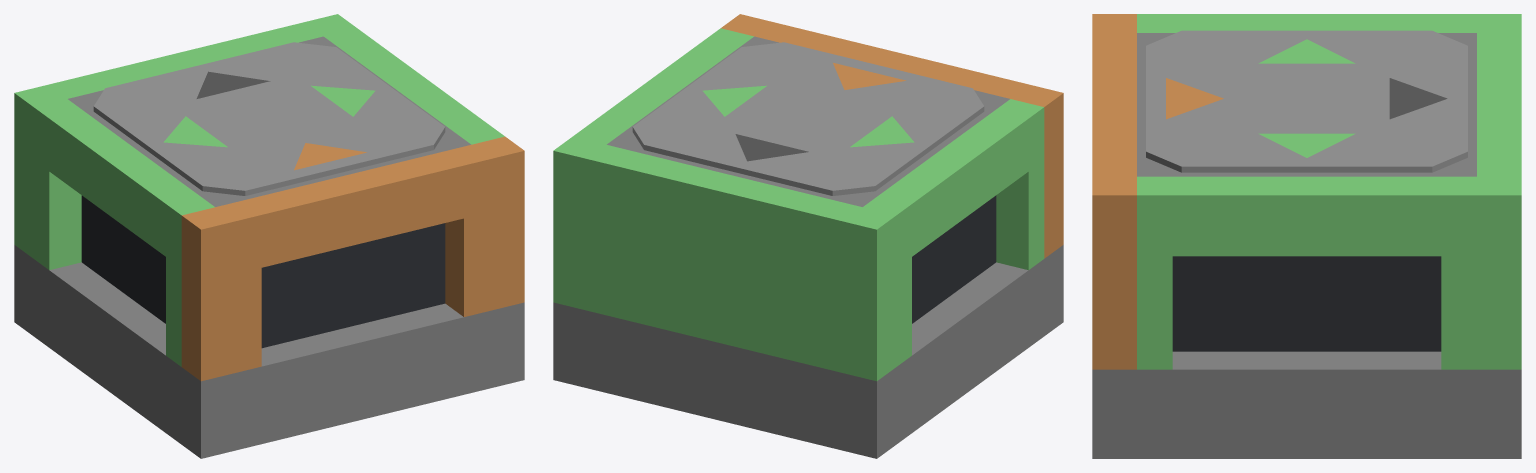
File: vfef_splitter2_t.obj
3 renders of one model, left to right at view 1: azimuth 30°, elevation 25°; view 2: azimuth 150°, elevation 25°; view 3: azimuth 270°, elevation 25°, orthographic. The views are drawn at different scales.
Visible parts, largest first — view 1: vfef_splitter2_t_0, vfef_splitter2_t_19, vfef_splitter2_t_10, vfef_splitter2_t_9, vfef_splitter2_t_13, vfef_splitter2_t_15, vfef_splitter2_t_8, vfef_splitter2_t_17, vfef_splitter2_t_12, vfef_splitter2_t_14, vfef_splitter2_t_7, vfef_splitter2_t_2 (+10 smaller); view 2: vfef_splitter2_t_2, vfef_splitter2_t_0, vfef_splitter2_t_19, vfef_splitter2_t_13, vfef_splitter2_t_16, vfef_splitter2_t_18, vfef_splitter2_t_11, vfef_splitter2_t_14, vfef_splitter2_t_5, vfef_splitter2_t_15, vfef_splitter2_t_9, vfef_splitter2_t_1 (+9 smaller); view 3: vfef_splitter2_t_0, vfef_splitter2_t_19, vfef_splitter2_t_6, vfef_splitter2_t_5, vfef_splitter2_t_17, vfef_splitter2_t_18, vfef_splitter2_t_3, vfef_splitter2_t_4, vfef_splitter2_t_2, vfef_splitter2_t_9, vfef_splitter2_t_1, vfef_splitter2_t_13 (+9 smaller).
Part boxes in pixels (x1,y1,x2,y2): vfef_splitter2_t_0: [14, 245, 524, 458]; vfef_splitter2_t_19: [93, 42, 445, 195]; vfef_splitter2_t_10: [261, 223, 445, 348]; vfef_splitter2_t_9: [243, 151, 463, 267]; vfef_splitter2_t_13: [49, 110, 199, 256]; vfef_splitter2_t_15: [181, 207, 234, 381]; vfef_splitter2_t_8: [445, 144, 490, 316]; vfef_splitter2_t_17: [472, 136, 524, 310]; vfef_splitter2_t_12: [33, 99, 82, 270]; vfef_splitter2_t_14: [81, 195, 165, 323]; vfef_splitter2_t_7: [215, 200, 261, 372]; vfef_splitter2_t_2: [48, 22, 323, 98]; vfef_splitter2_t_2: [587, 144, 862, 372]; vfef_splitter2_t_0: [553, 245, 1063, 458]; vfef_splitter2_t_19: [632, 42, 984, 195]; vfef_splitter2_t_13: [878, 110, 1028, 256]; vfef_splitter2_t_16: [843, 207, 896, 381]; vfef_splitter2_t_18: [553, 136, 605, 310]; vfef_splitter2_t_11: [995, 99, 1044, 270]; vfef_splitter2_t_14: [912, 195, 996, 323]; vfef_splitter2_t_5: [589, 39, 738, 133]; vfef_splitter2_t_15: [1011, 85, 1063, 258]; vfef_splitter2_t_9: [783, 29, 1002, 92]; vfef_splitter2_t_1: [607, 36, 1009, 206]; vfef_splitter2_t_0: [1092, 351, 1521, 458]; vfef_splitter2_t_19: [1146, 30, 1467, 172]; vfef_splitter2_t_6: [1172, 256, 1441, 351]; vfef_splitter2_t_5: [1172, 176, 1441, 256]; vfef_splitter2_t_17: [1092, 176, 1136, 369]; vfef_splitter2_t_18: [1477, 176, 1521, 369]; vfef_splitter2_t_3: [1137, 176, 1172, 369]; vfef_splitter2_t_4: [1441, 176, 1476, 369]; vfef_splitter2_t_2: [1477, 33, 1521, 176]; vfef_splitter2_t_9: [1092, 48, 1136, 161]; vfef_splitter2_t_1: [1137, 33, 1476, 176]; vfef_splitter2_t_13: [1172, 14, 1441, 32].
Size of the model in its own units: 0.96 by 0.665 by 0.96.
